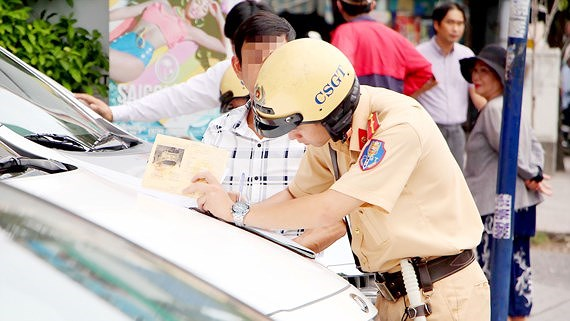police: (195, 46, 495, 321)
